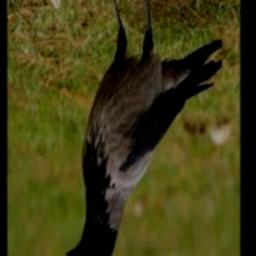Crow: (67, 0, 224, 256)
